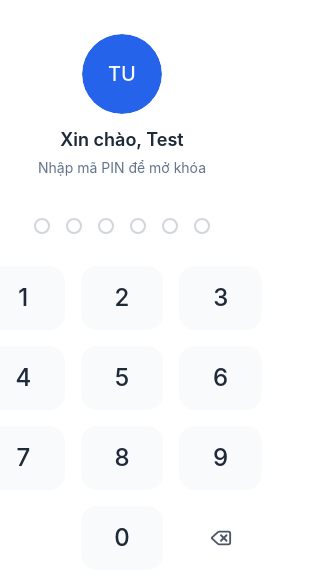
Test case: PinLockPage — wrong PIN › shows error message on wrong PIN
This screenshot has width=320, height=587.
Step 1. Click the button "0" → coordinates (122, 538), box [81,506,163,570]
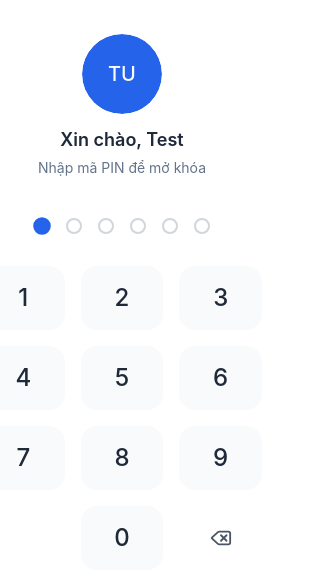
Step 2. Click the button "0" → coordinates (122, 538), box [81,506,163,570]
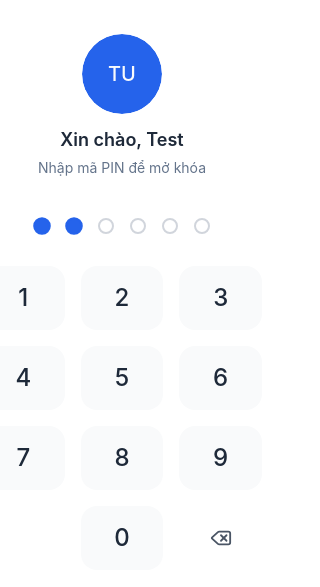
Step 3. Click the button "0" → coordinates (122, 538), box [81,506,163,570]
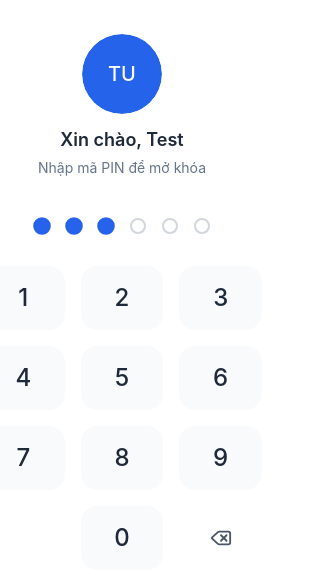
Step 4. Click the button "0" → coordinates (122, 538), box [81,506,163,570]
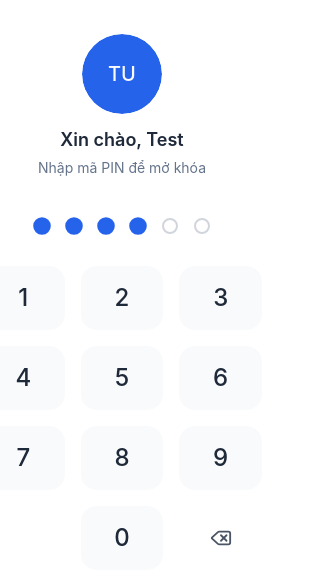
Step 5. Click the button "0" → coordinates (122, 538), box [81,506,163,570]
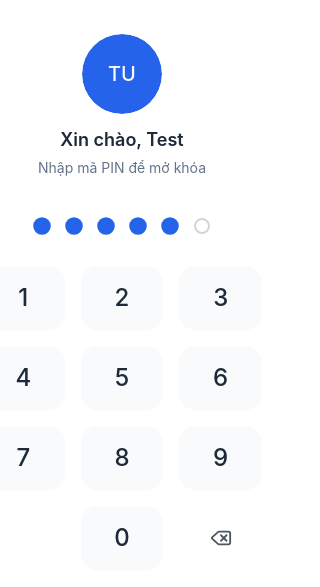
Step 6. Click the button "0" → coordinates (122, 538), box [81,506,163,570]
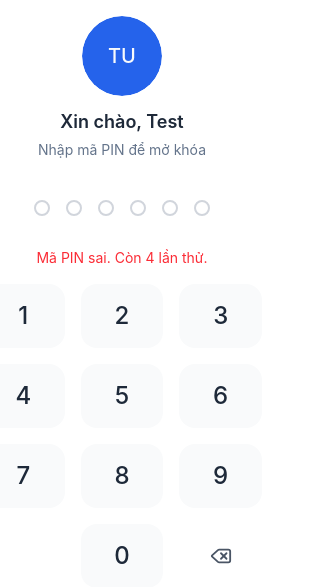
Expected: the text "Mã PIN sai. Còn 4 lần thử." is shown, [36,248,208,268]
